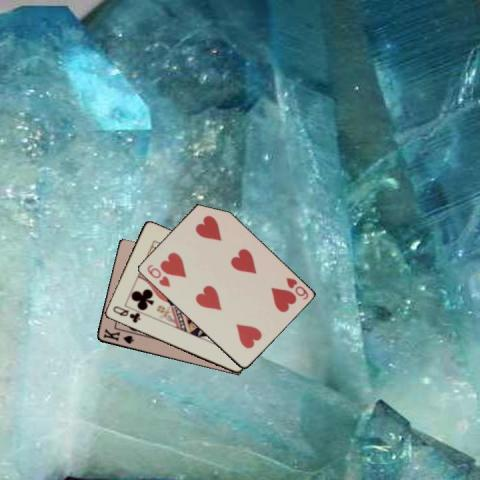6h: (144, 261, 171, 289), (283, 274, 309, 301)
Ks: (100, 326, 135, 346)
Qc: (110, 303, 142, 325)
